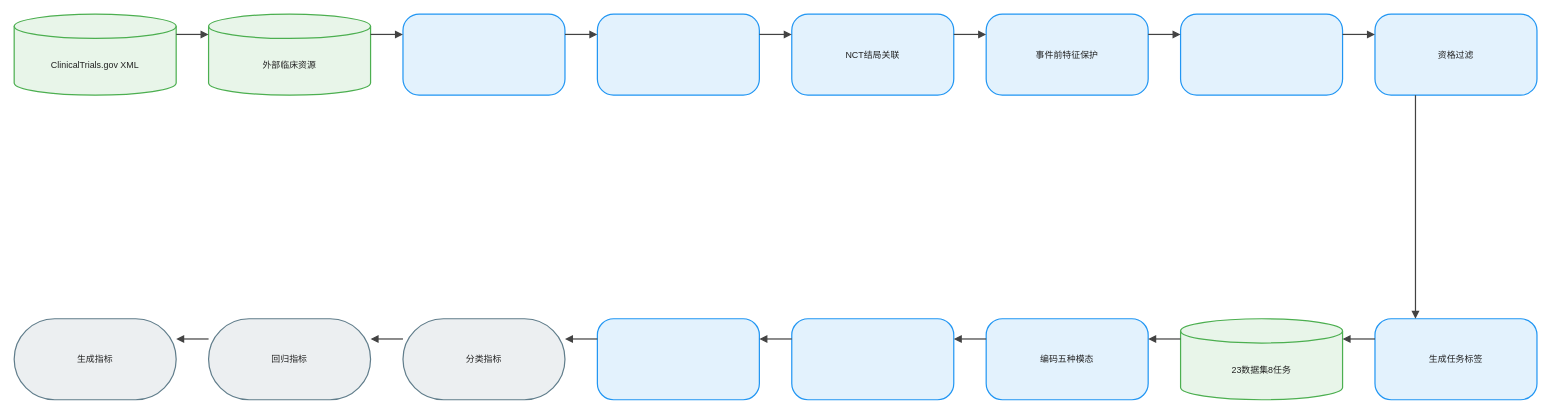
Some shapes in this 1552 by 415 pixel diagram are drawn without their labels. Here are the shapes that lost their labels. From the top down, the centre of each, then its label:
At (483,54): "药物分子图映射".
At (678,54): "疾病编码映射".
At (1261,54): "特征清理".
At (678,359): "四类任务".
At (872,359): "任务特定融合".
